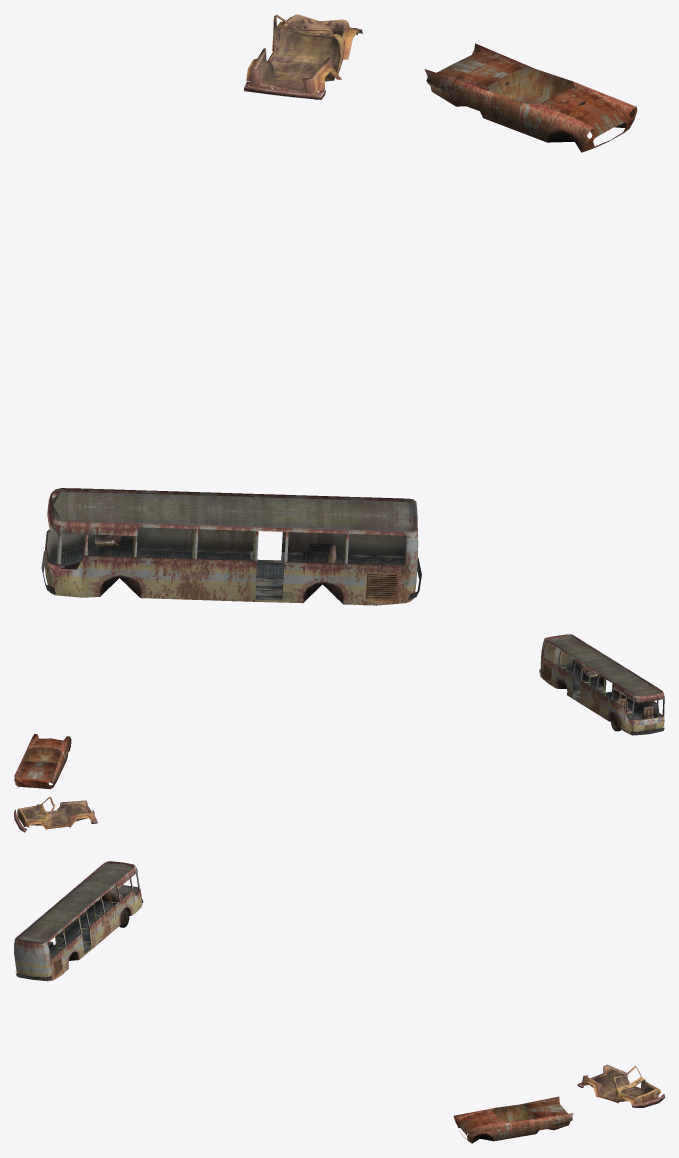
The model's file is Rusted_vehicles.fbx.
The picture shows the model from 3 angles, top to bottom: view 1: azimuth 30°, elevation 25°; view 2: azimuth 150°, elevation 25°; view 3: azimuth 270°, elevation 25°; orthographic projection. The views are drawn at different scales.
Parts seen in each view (by area): view 1: Rusted_bus, Rusted_Car, Rusted_jeep; view 2: Rusted_bus, Rusted_Car, Rusted_jeep; view 3: Rusted_bus, Rusted_Car, Rusted_jeep.
Part boxes in pixels (<box>): Rusted_bus: <box>41,488,421,605</box>; Rusted_Car: <box>424,43,637,152</box>; Rusted_jeep: <box>244,14,362,99</box>; Rusted_bus: <box>539,634,664,735</box>; Rusted_Car: <box>14,733,71,789</box>; Rusted_jeep: <box>14,796,97,832</box>; Rusted_bus: <box>14,861,143,981</box>; Rusted_Car: <box>453,1096,573,1143</box>; Rusted_jeep: <box>577,1064,664,1107</box>.
Bounding box in the file's own units: 21607 × 2086 × 24752.
